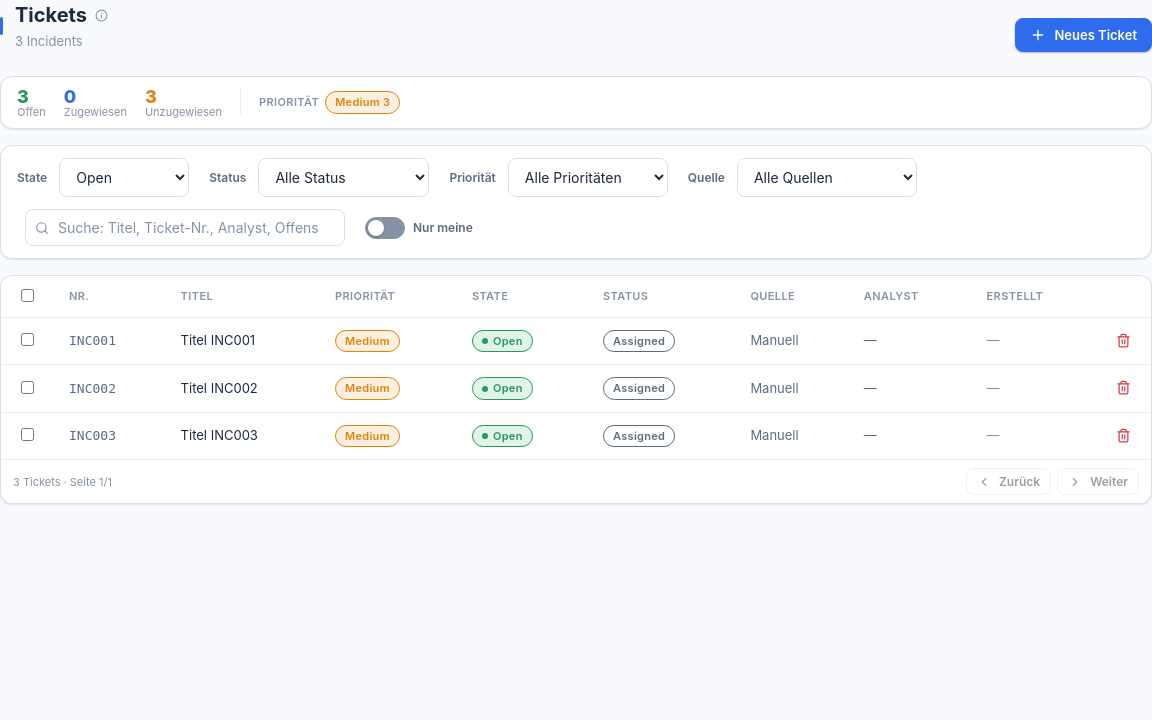
Test: TicketsPage — Bulk Delete › zeigt das Teil-Ergebnis ehrlich an (gelöscht + nicht gefunden)
Expected: the link "Titel INC001" is shown, 181,332 -> 255,348
Step 1. Click the checkbox named "Ticket INC001 auswählen" → click(28, 340), box 21,333 -> 34,346
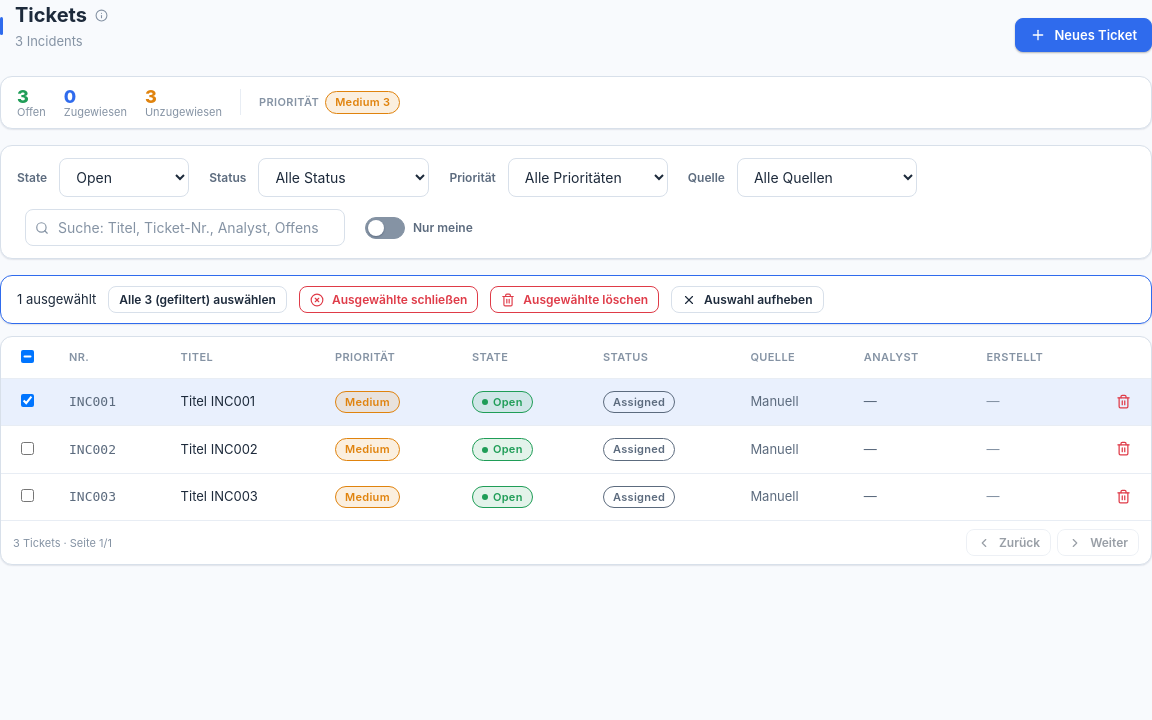
Step 2. Click the checkbox named "Ticket INC002 auswählen" → click(28, 448), box 21,442 -> 34,455
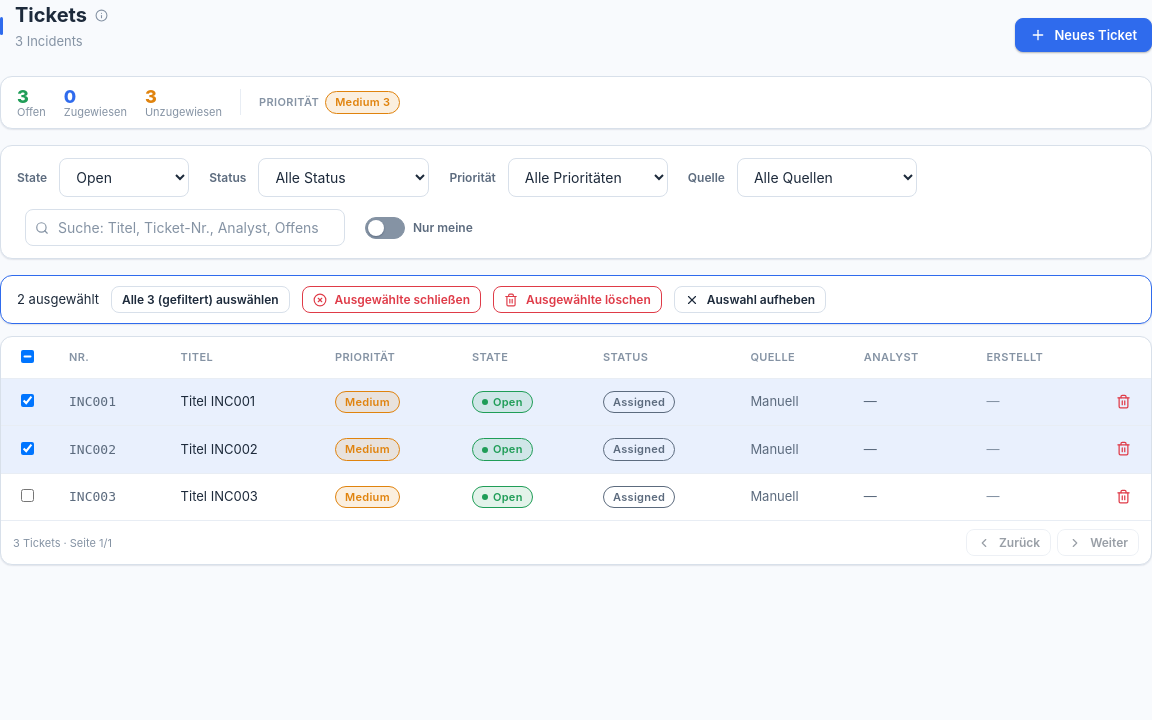
Expected: the text "2 ausgewählt" is shown, 17,290 -> 99,310
Step 3. Click the button "Ausgewählte löschen" → click(577, 300), box 493,286 -> 662,313
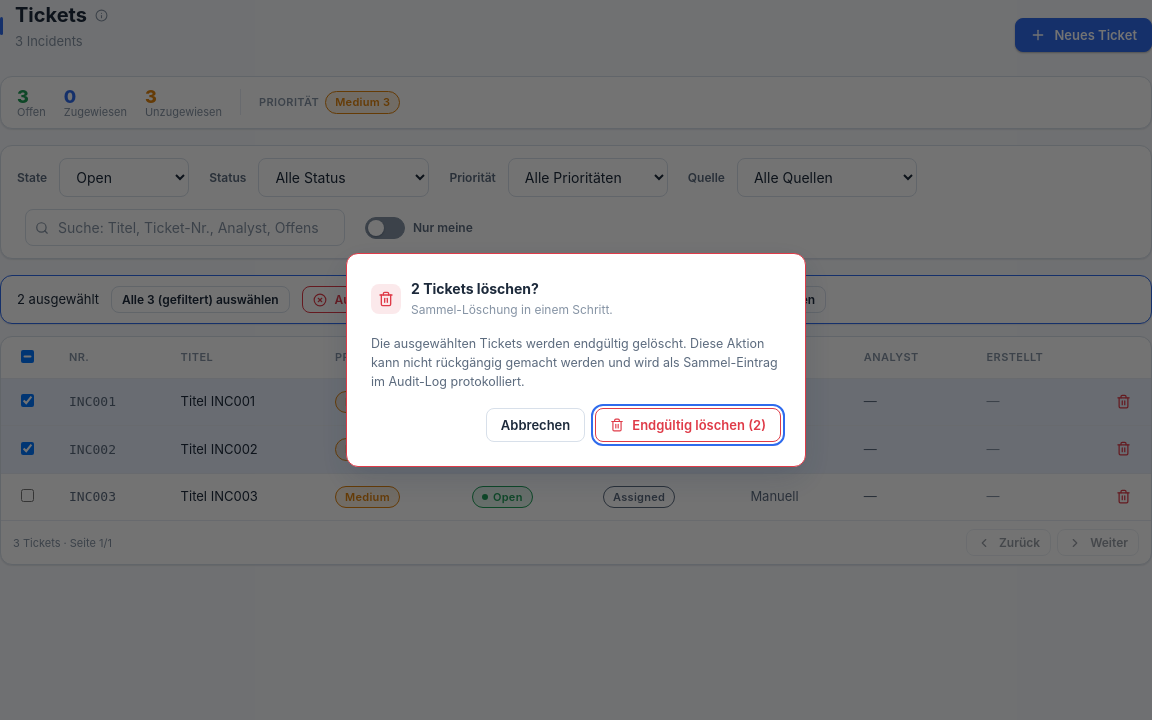
Step 4. Click the button "Endgültig löschen (2)" → click(688, 425), box 595,408 -> 781,442
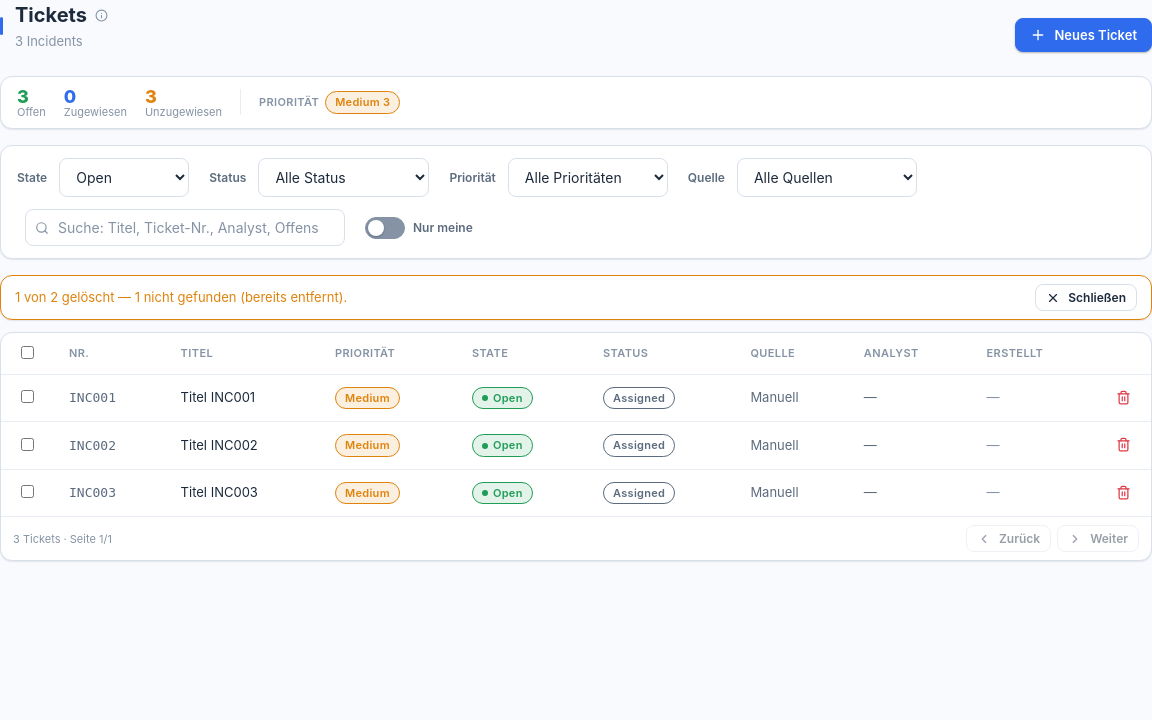
Expected: the text "1 von 2 gelöscht — 1 nicht gefunden (bereits entfernt)." is shown, 15,288 -> 347,308
